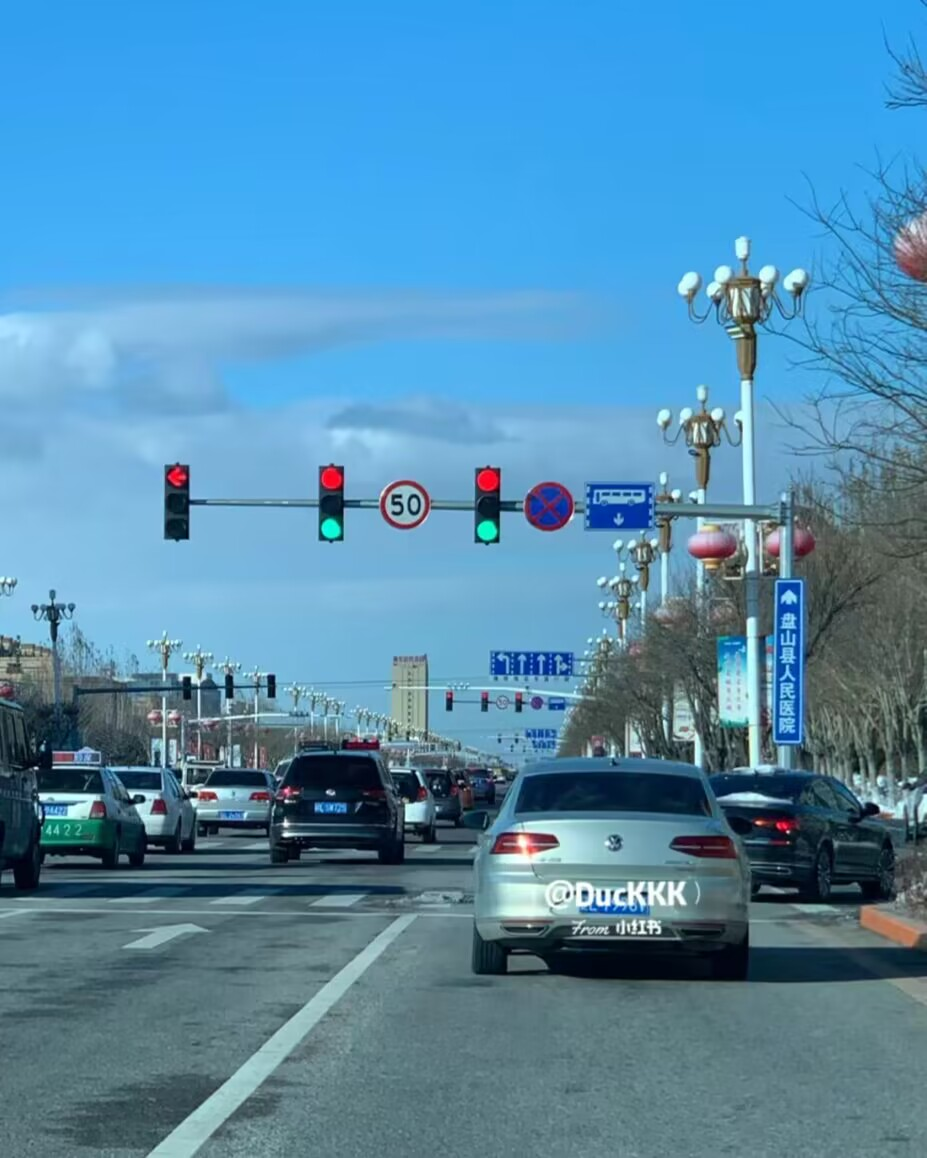pl50: (379, 480, 431, 528)
pn: (523, 480, 575, 534)
